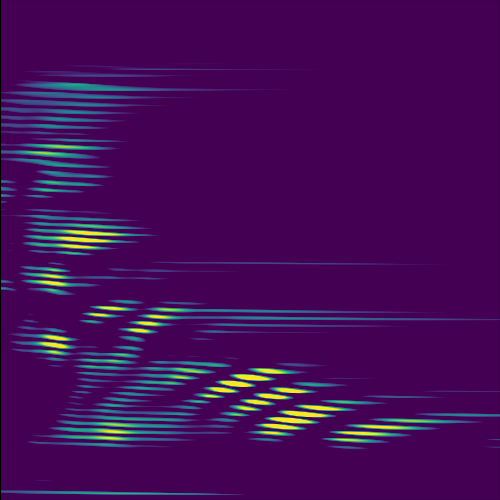semblance: (247, 398, 349, 441), (195, 360, 289, 404), (332, 413, 450, 446), (229, 376, 312, 419), (51, 223, 132, 253), (128, 304, 179, 336), (24, 137, 85, 160), (83, 296, 129, 322), (169, 361, 210, 385)
